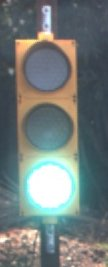Green: (11, 32, 83, 227)
